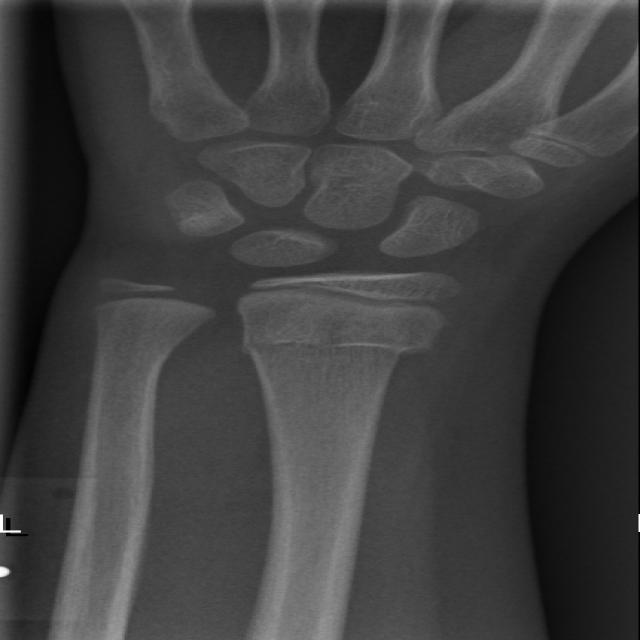radius fracture: (221, 310, 472, 418)
